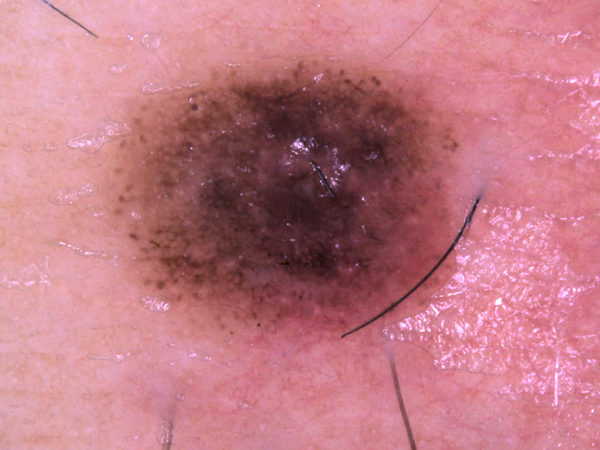Detected Lesion: (111, 53, 469, 341)
